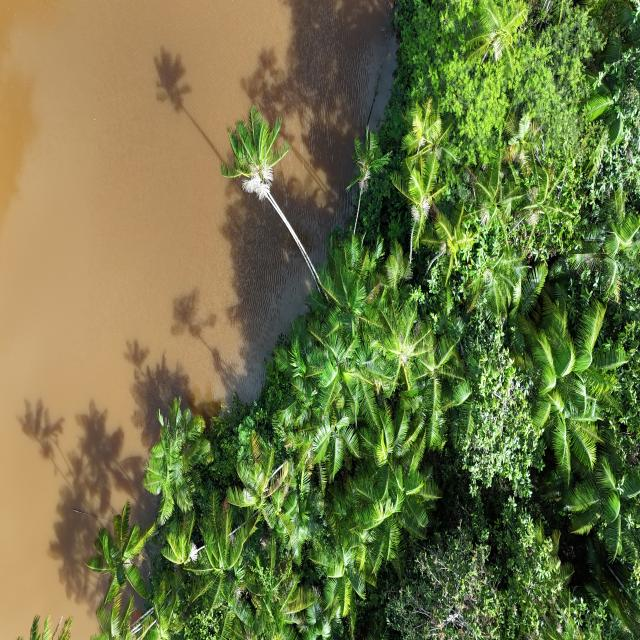vegetation: (16, 1, 638, 638)
